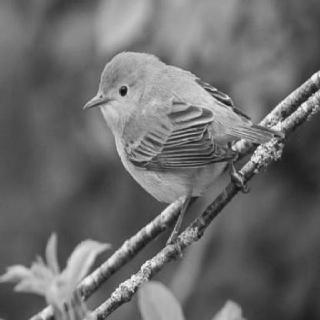other: (71, 28, 278, 228)
